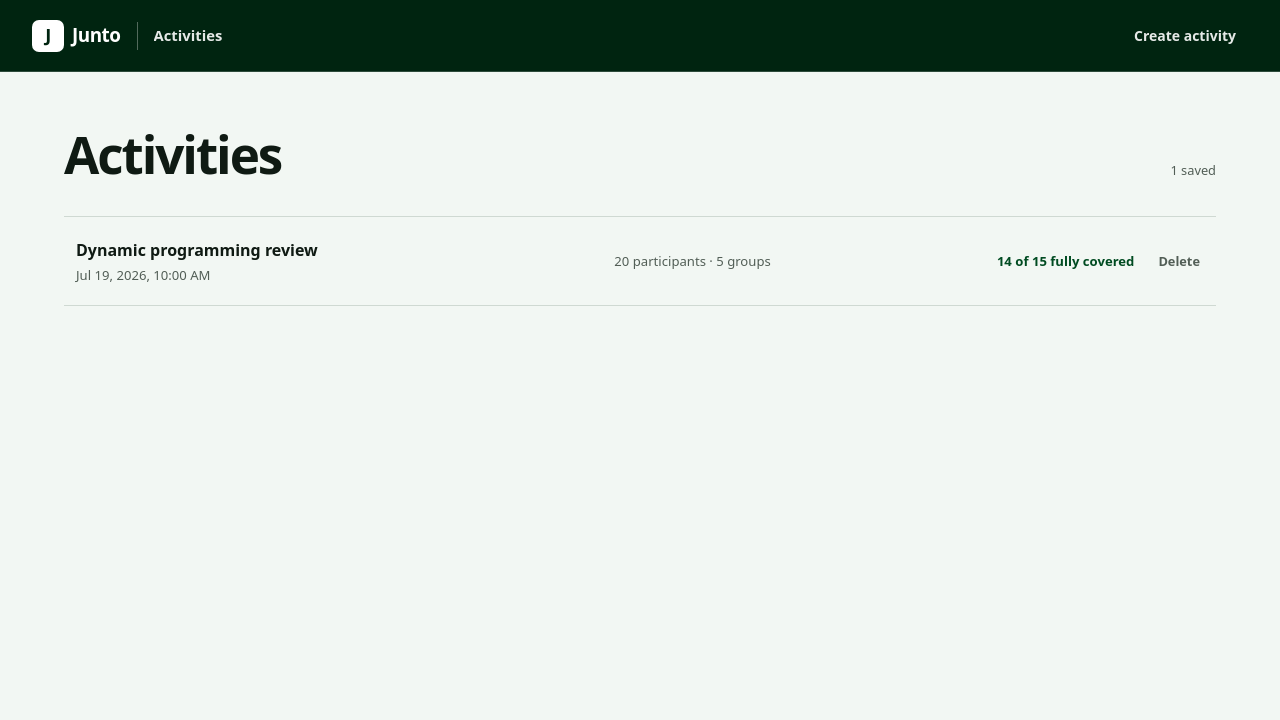
Test: ActivityHistoryPage › requires the invite code before manually deleting an activity
Click the button with aria-label "Delete Dynamic programming review".
click(1179, 261)  # box [1146,239,1212,283]
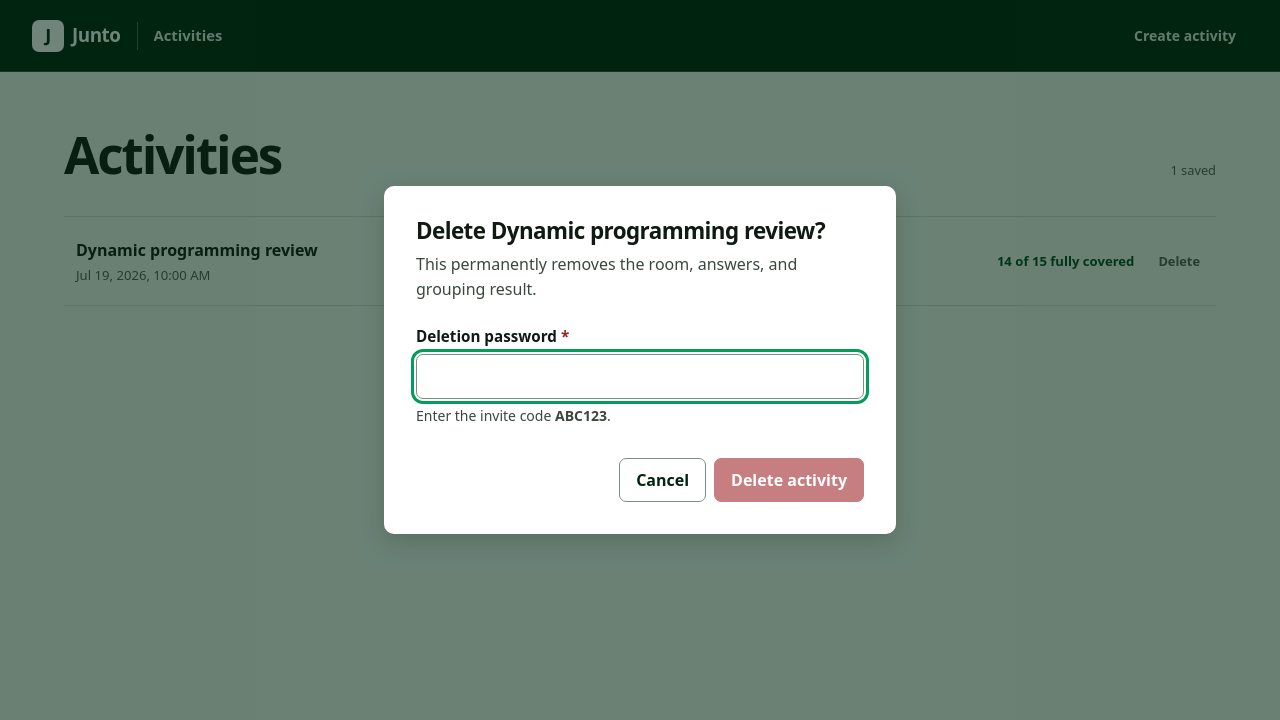
Expected: the button "Delete activity" is disabled, [714,458,864,502]
Type "abc123" into the password field labelled "Deletion password *".
click(640, 376); type("abc123")  # box [416,354,864,400]
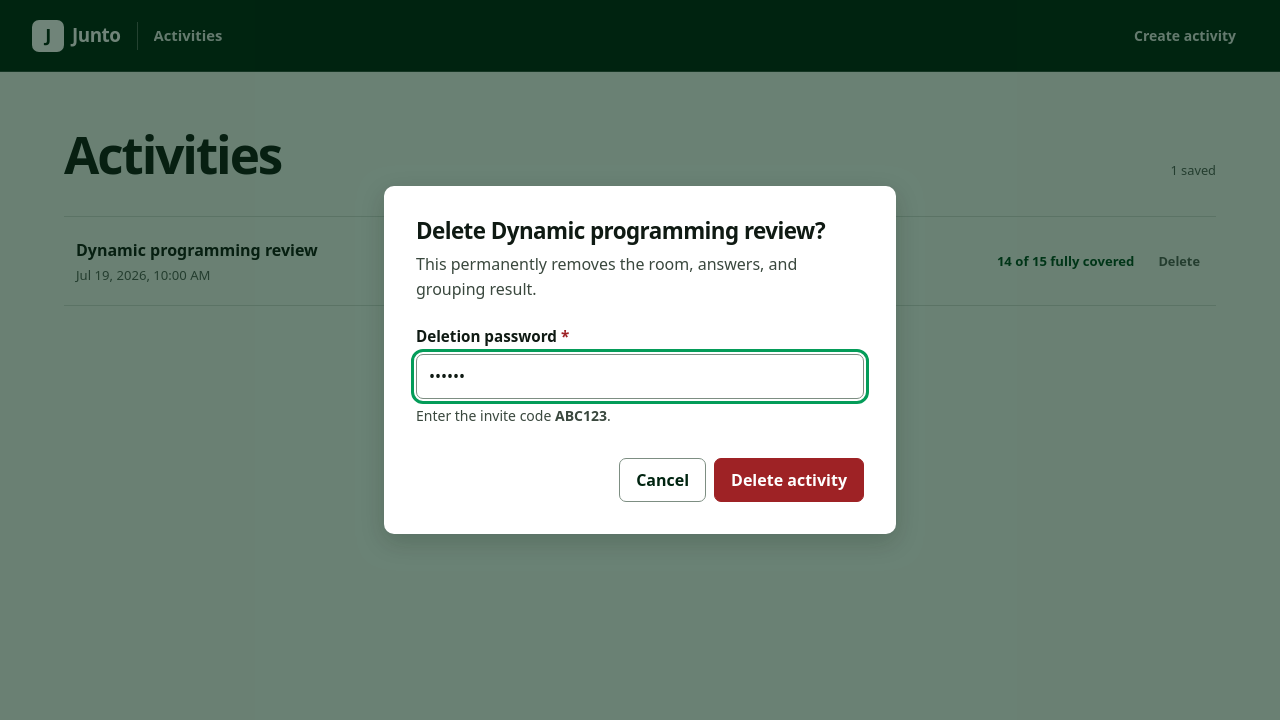
Expected: the button "Delete activity" is enabled
Click the button "Delete activity".
click(789, 480)  # box [714,458,864,502]
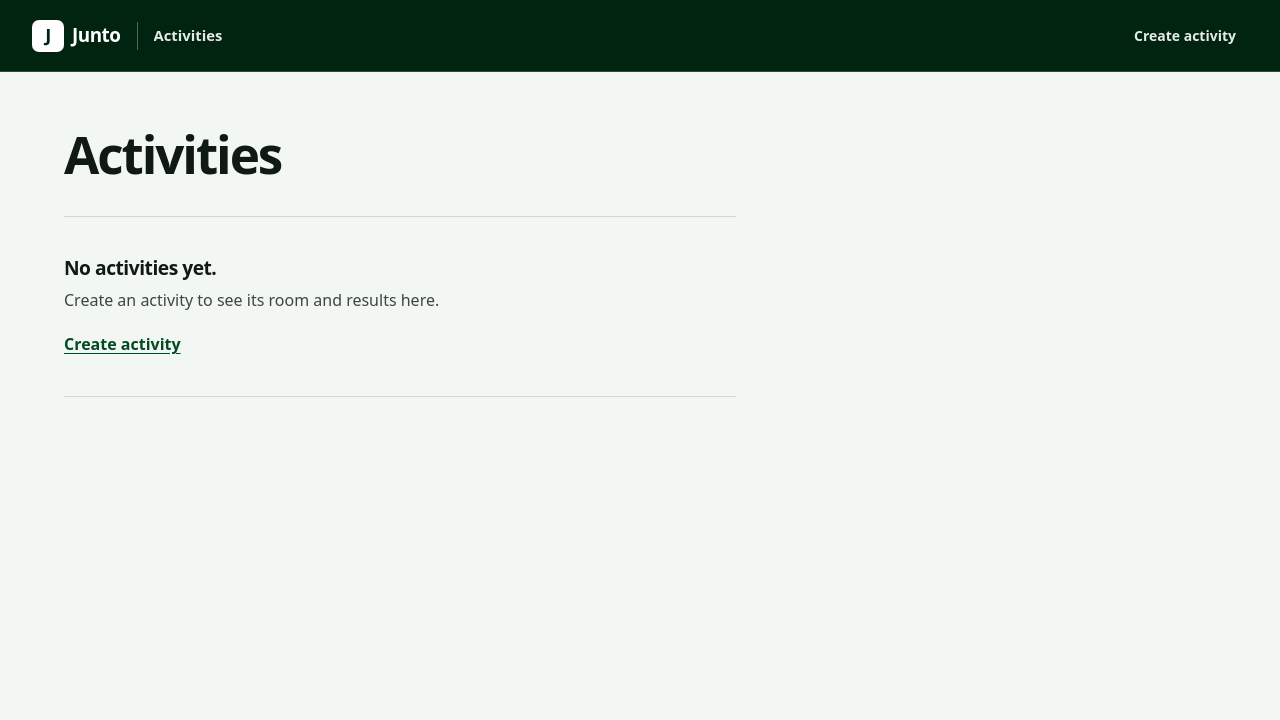
Expected: the heading "No activities yet." is shown, [64,254,216,281]
